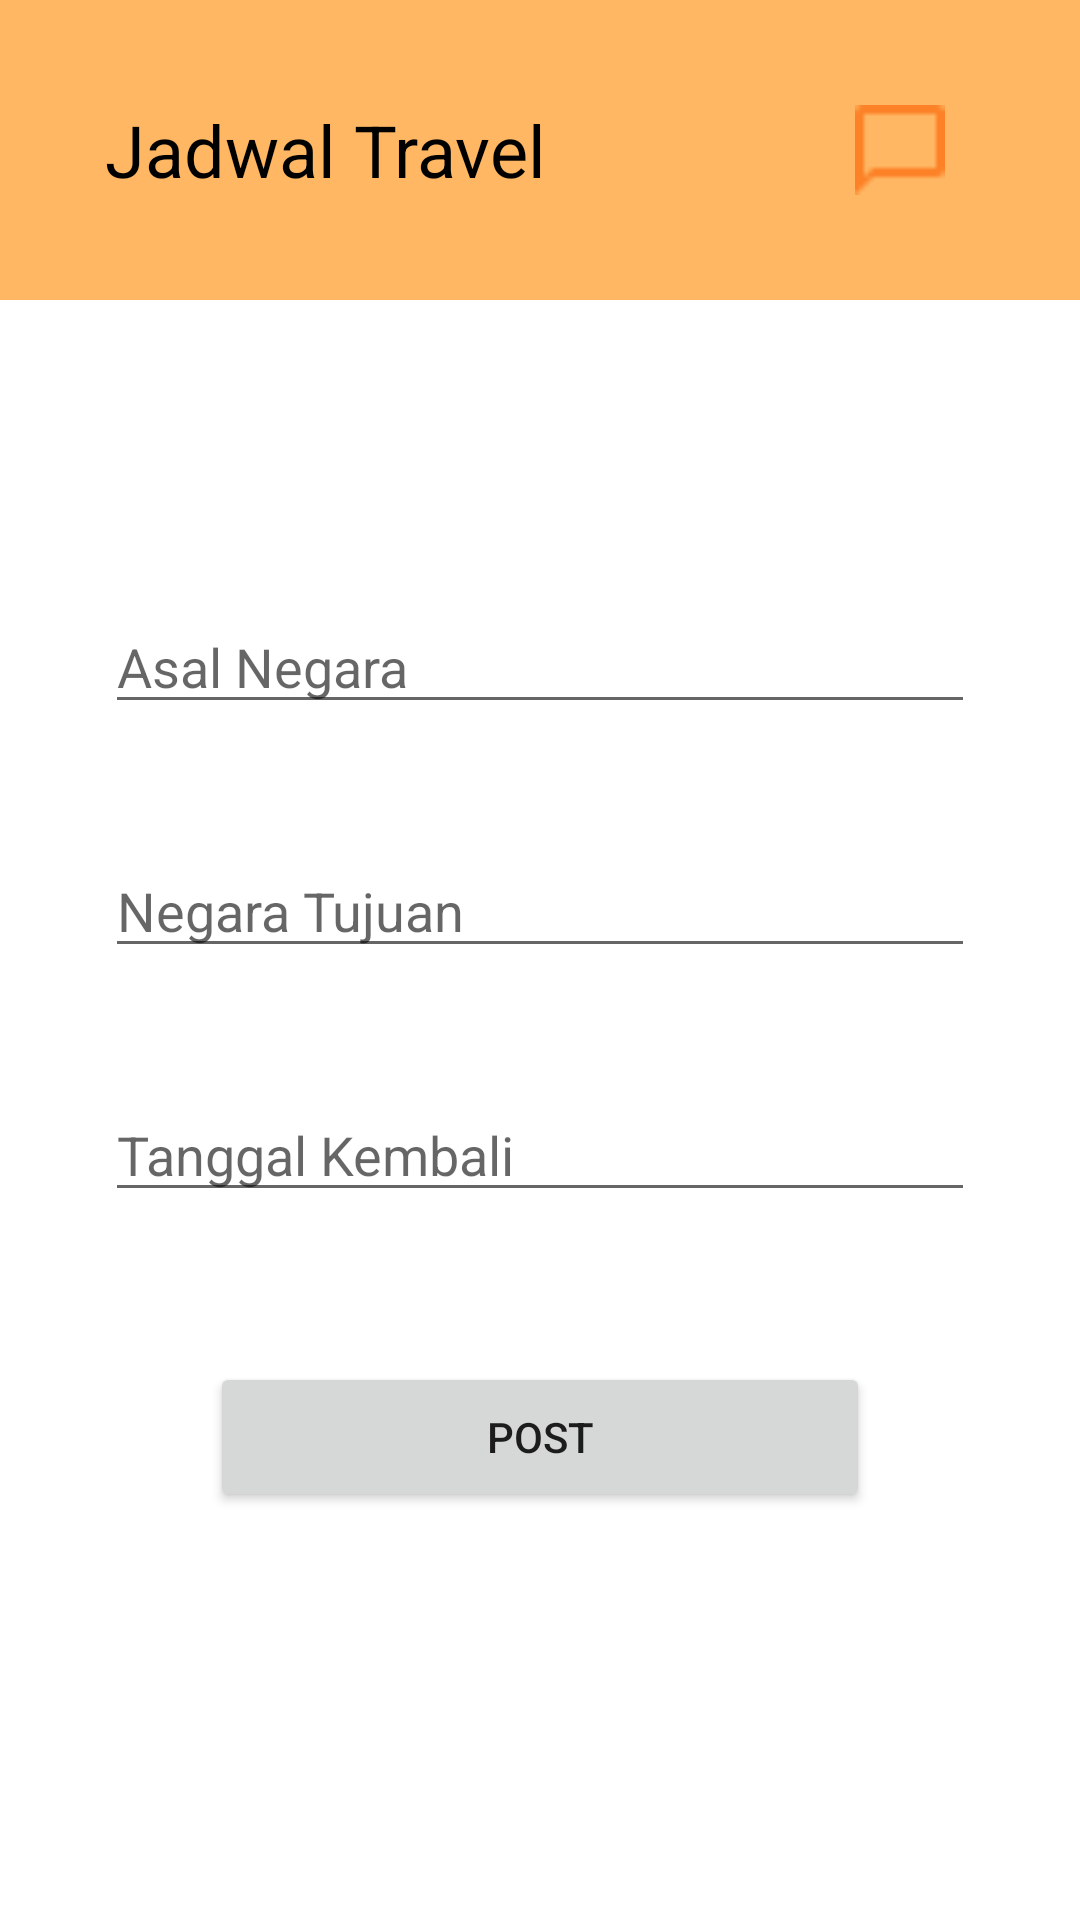

Where to tap for icons on this 1080 × 1920 app screen, as (x,y):
chat: (900,150)
